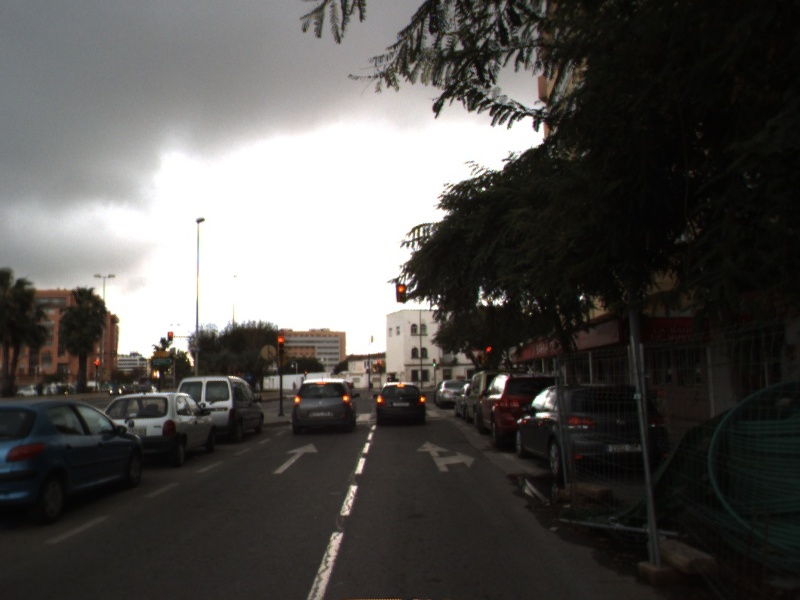STRAIGHT: (272, 442, 319, 475)
STRAIGHT_RIGHT: (415, 439, 477, 473)
